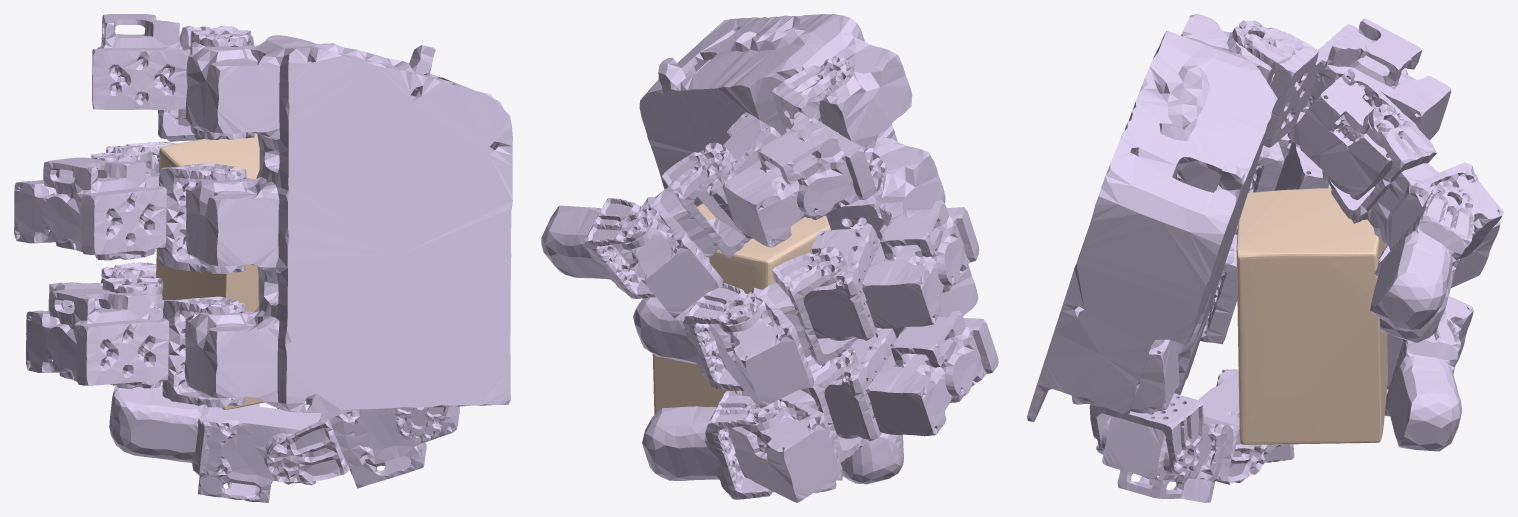
Rendered from 251f0301d96cc9-closed.glb.
3 views of the same model, side by side, from view 1: azimuth 30°, elevation 25°; view 2: azimuth 150°, elevation 25°; view 3: azimuth 270°, elevation 25° (orthographic). The views are drawn at different scales.
Visible parts, largest first — view 1: LEAP_hand, world; view 2: LEAP_hand, world; view 3: LEAP_hand, world.
Boxes of the visible parts, bbox=[...] form: LEAP_hand: bbox=[14, 14, 512, 502]; world: bbox=[156, 133, 264, 409]; LEAP_hand: bbox=[541, 14, 998, 502]; world: bbox=[652, 203, 830, 414]; LEAP_hand: bbox=[1027, 14, 1503, 502]; world: bbox=[1236, 188, 1387, 444].
Bounding box in the file's own units: 0.1504 × 0.173 × 0.1671.
